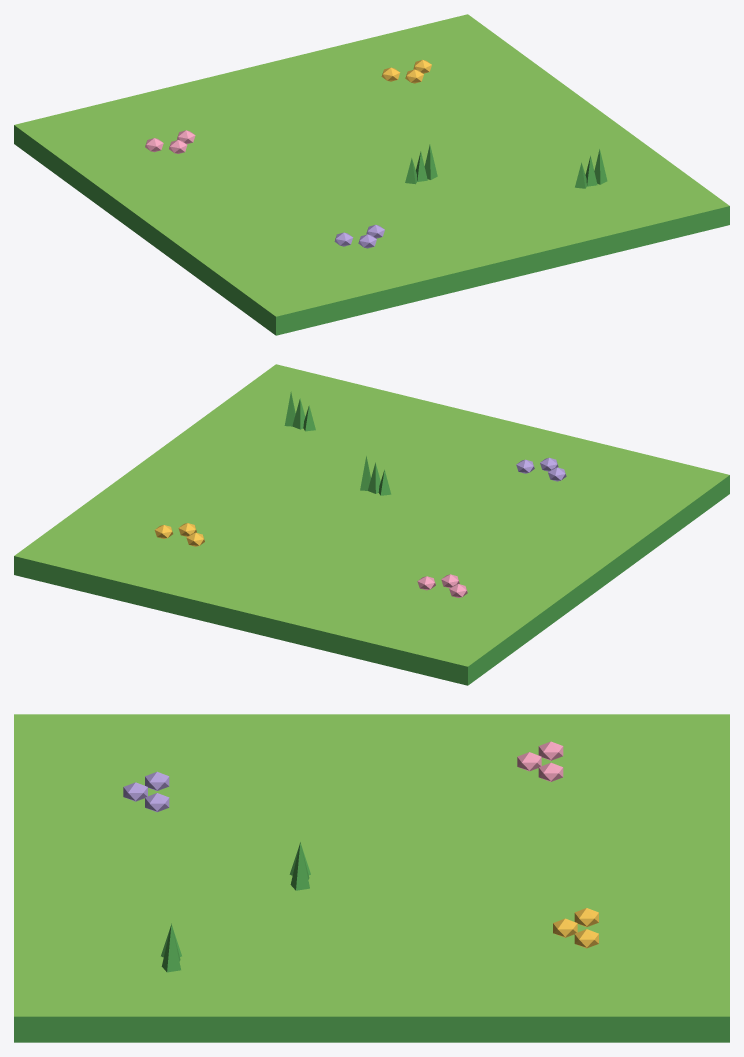
Rendered from nature_grass.glb.
3 renders of one model, top to bottom at view 1: azimuth 30°, elevation 25°; view 2: azimuth 150°, elevation 25°; view 3: azimuth 270°, elevation 25°, orthographic. The views are drawn at different scales.
Parts seen in each view (by area): view 1: nature_grass; view 2: nature_grass; view 3: nature_grass.
Part boxes in pixels (x1=…): nature_grass: x1=14, y1=14, x2=729, y2=335; nature_grass: x1=14, y1=364, x2=729, y2=685; nature_grass: x1=14, y1=714, x2=729, y2=1042.
Bounding box in the file's own units: 1 × 0.11 × 1.
